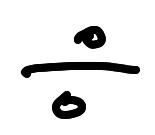div: (21, 26, 140, 119)
